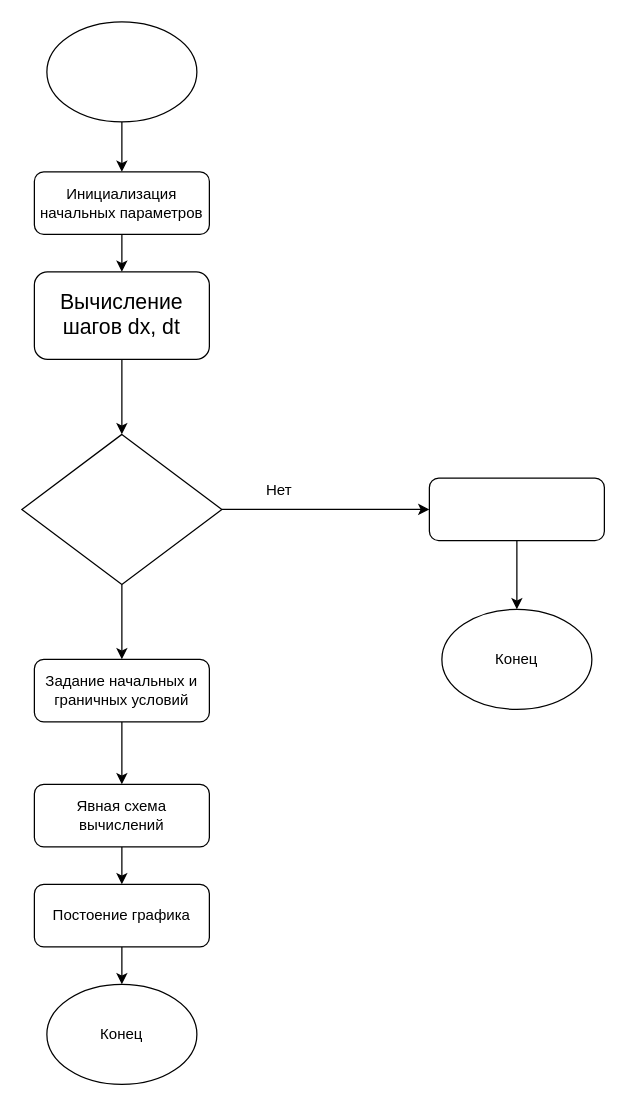
Some shapes in this 626 by 1106 pixel diagram are drawn without their labels. Each missing label, with the centre of its shape:
Вывести ошибку: the point at 516,509
Старт: the point at 121,71
Схема устойчива: the point at 121,508
